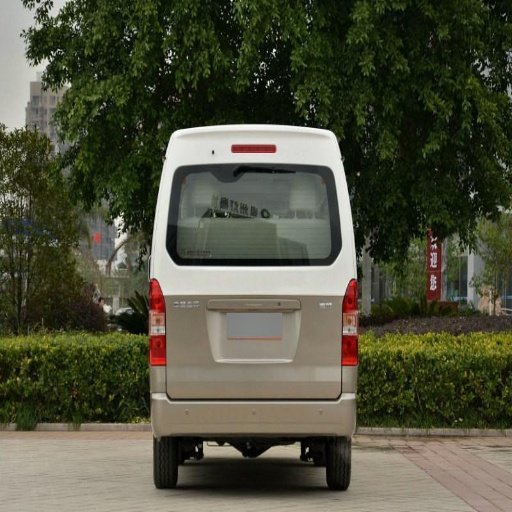back_bumper: (148, 365, 355, 438)
trunk: (162, 265, 352, 397)
